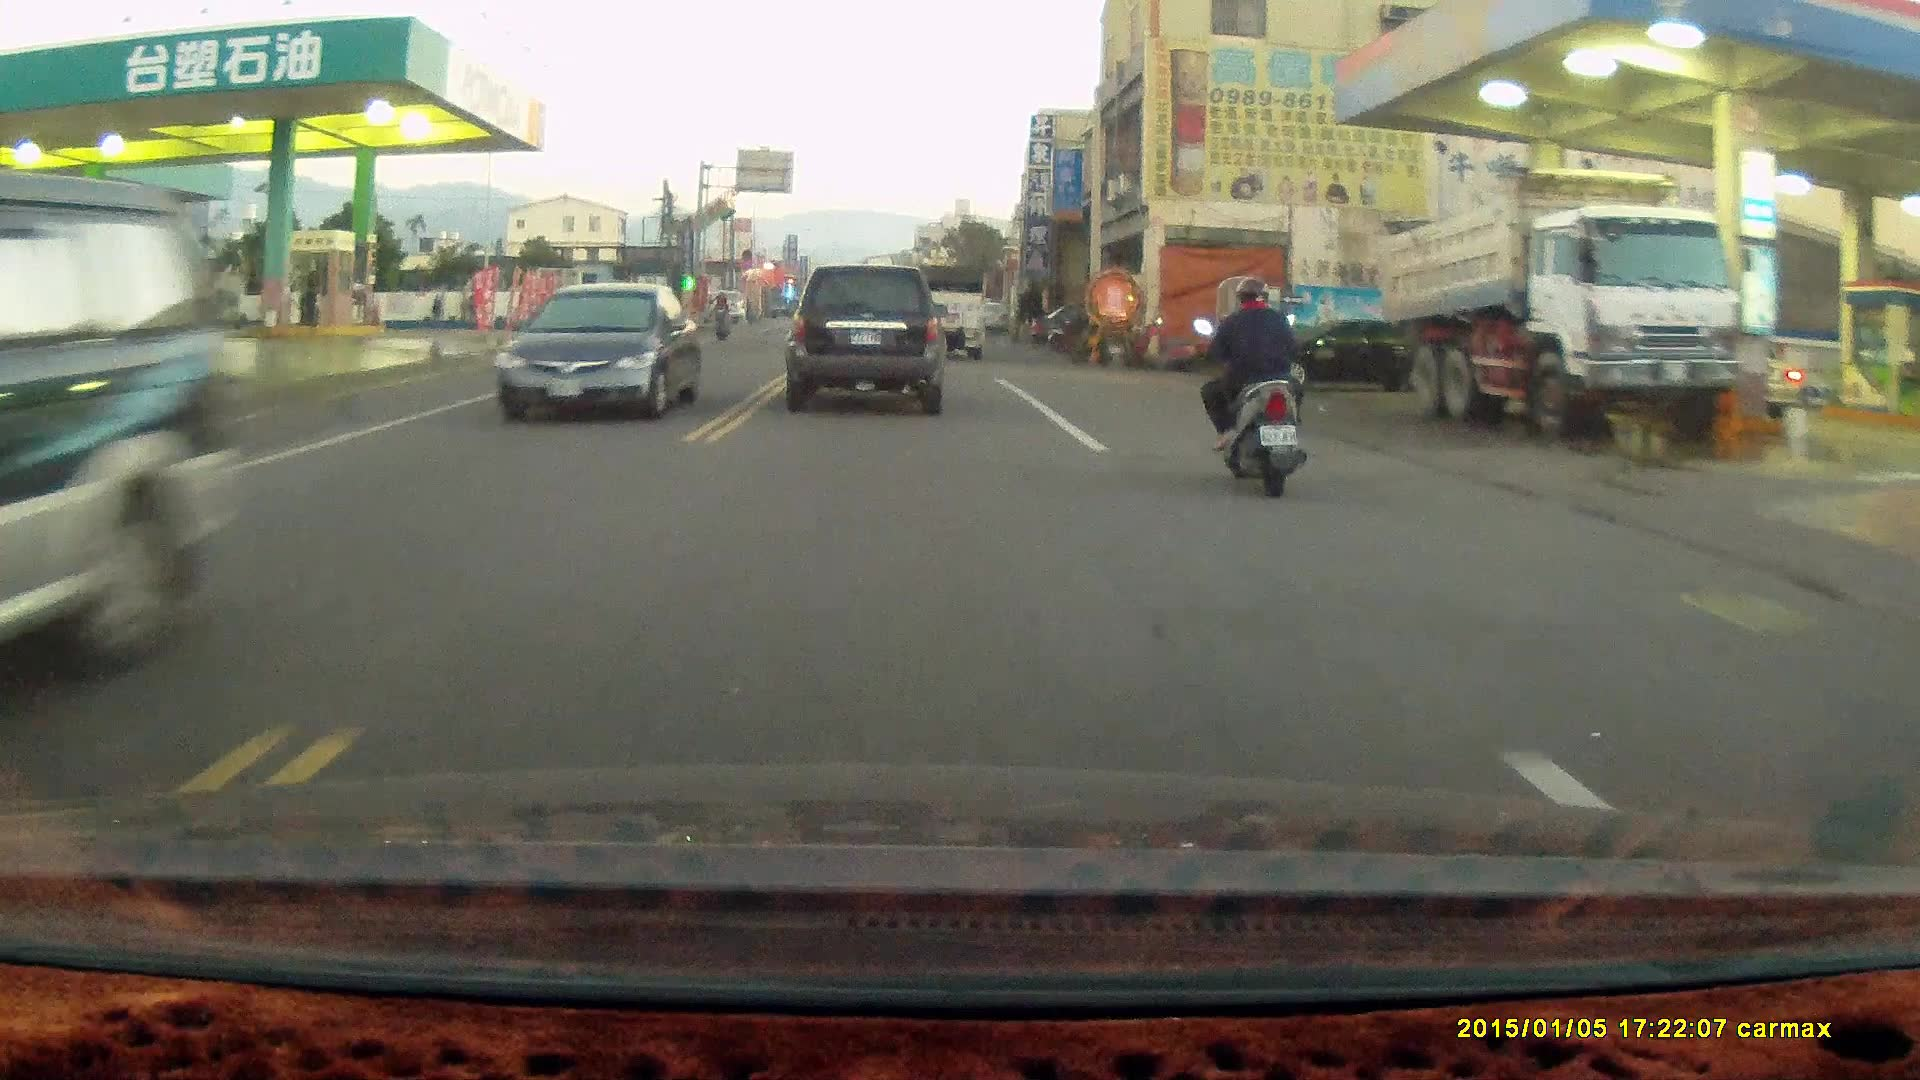rider: (1190, 272, 1306, 497), (706, 289, 732, 343)
vehicle: (1, 169, 245, 696), (1380, 160, 1735, 439), (499, 279, 702, 422), (785, 261, 951, 410), (907, 262, 990, 365)
